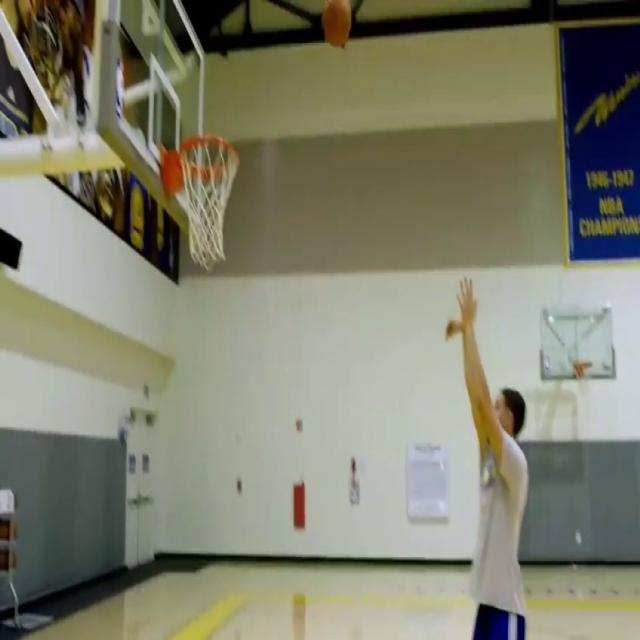ball: (321, 0, 354, 51)
